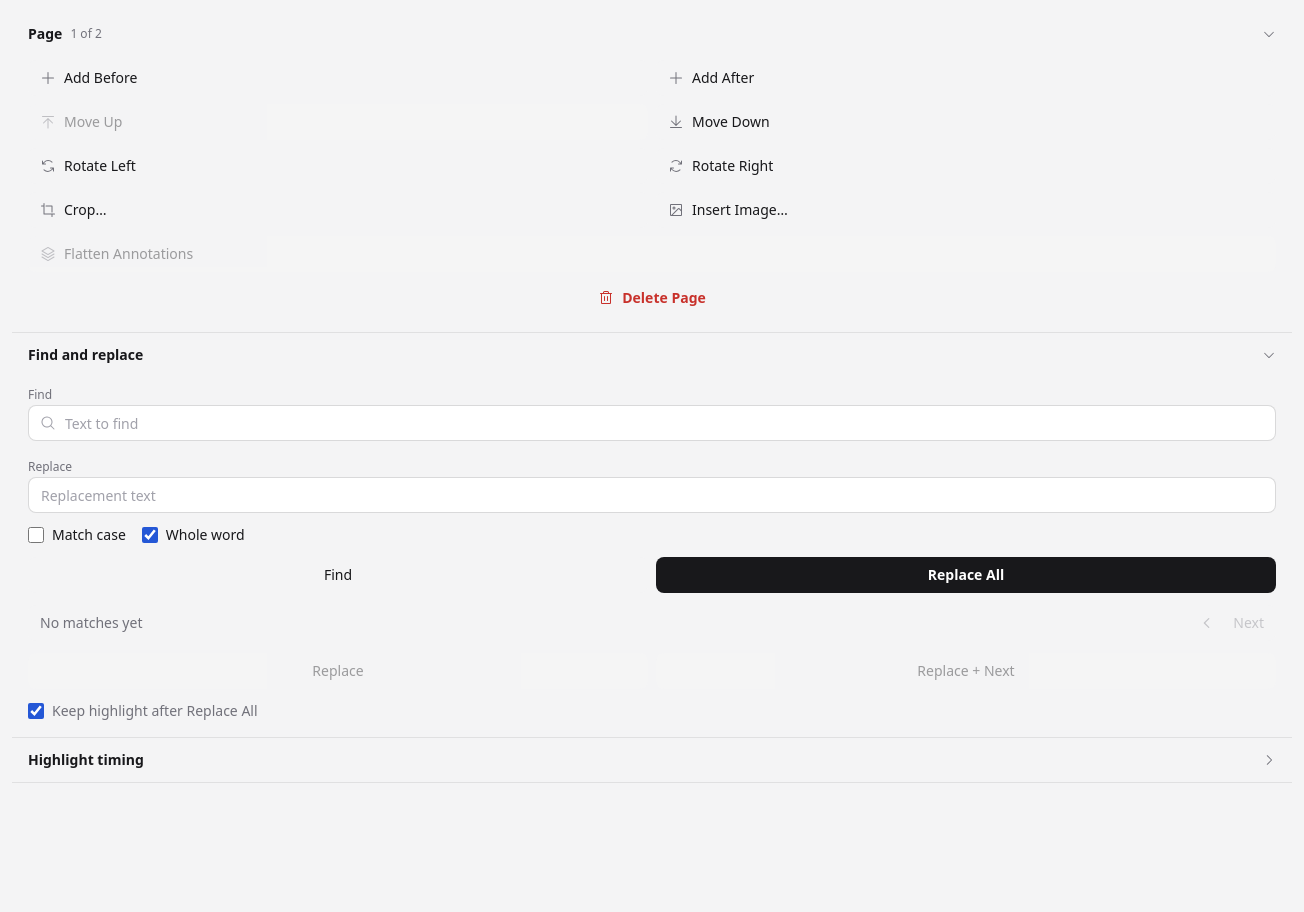
DocumentActionsPanel: Vigorous Find & Replace › Handles Case Sensitivity correctly
Click the checkbox labelled "Match case" at (36, 535), box top-left (28, 527), bottom-right (44, 543)
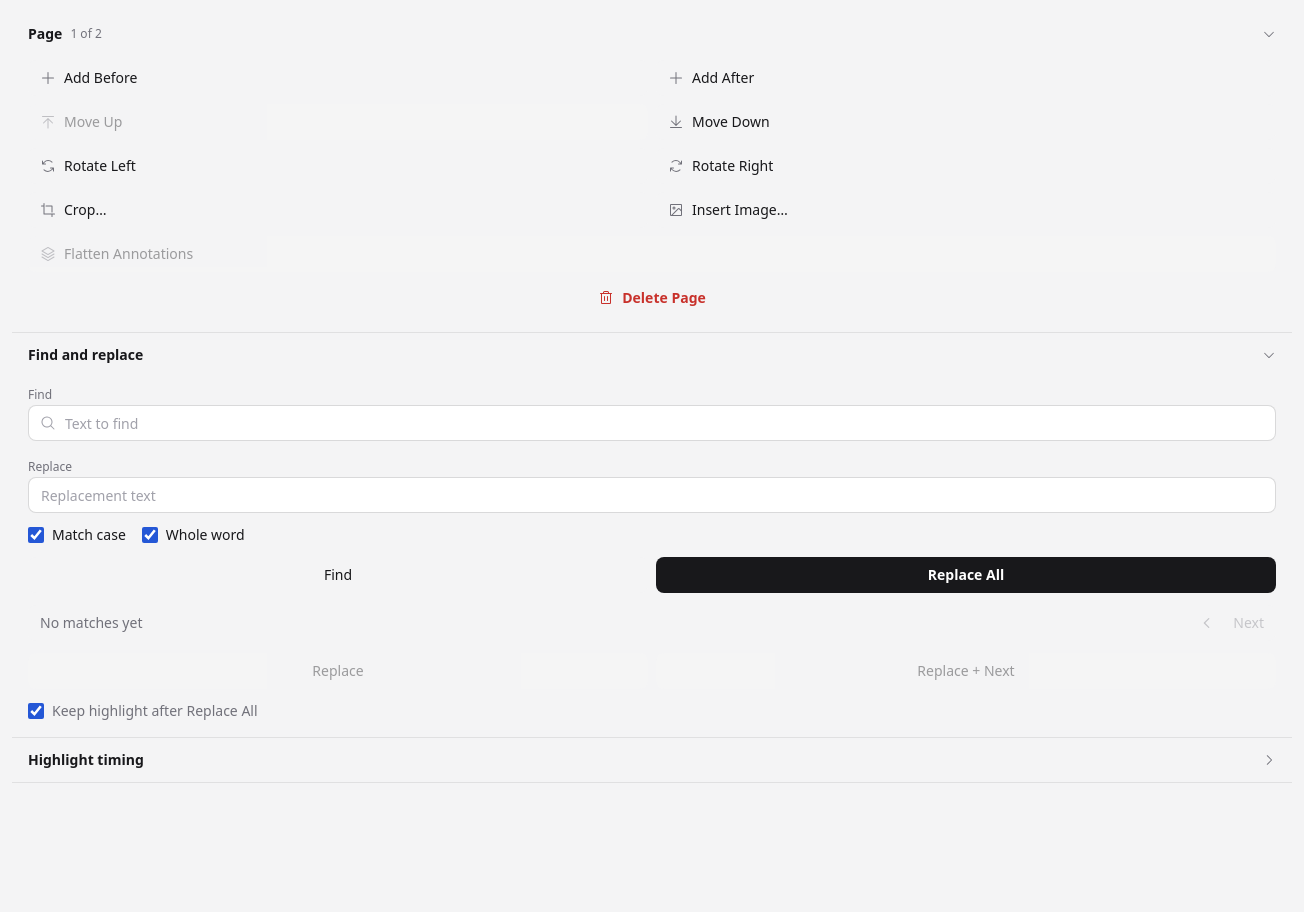
Type "hello" into the field labelled "Find" at (652, 423), box top-left (28, 405), bottom-right (1276, 441)
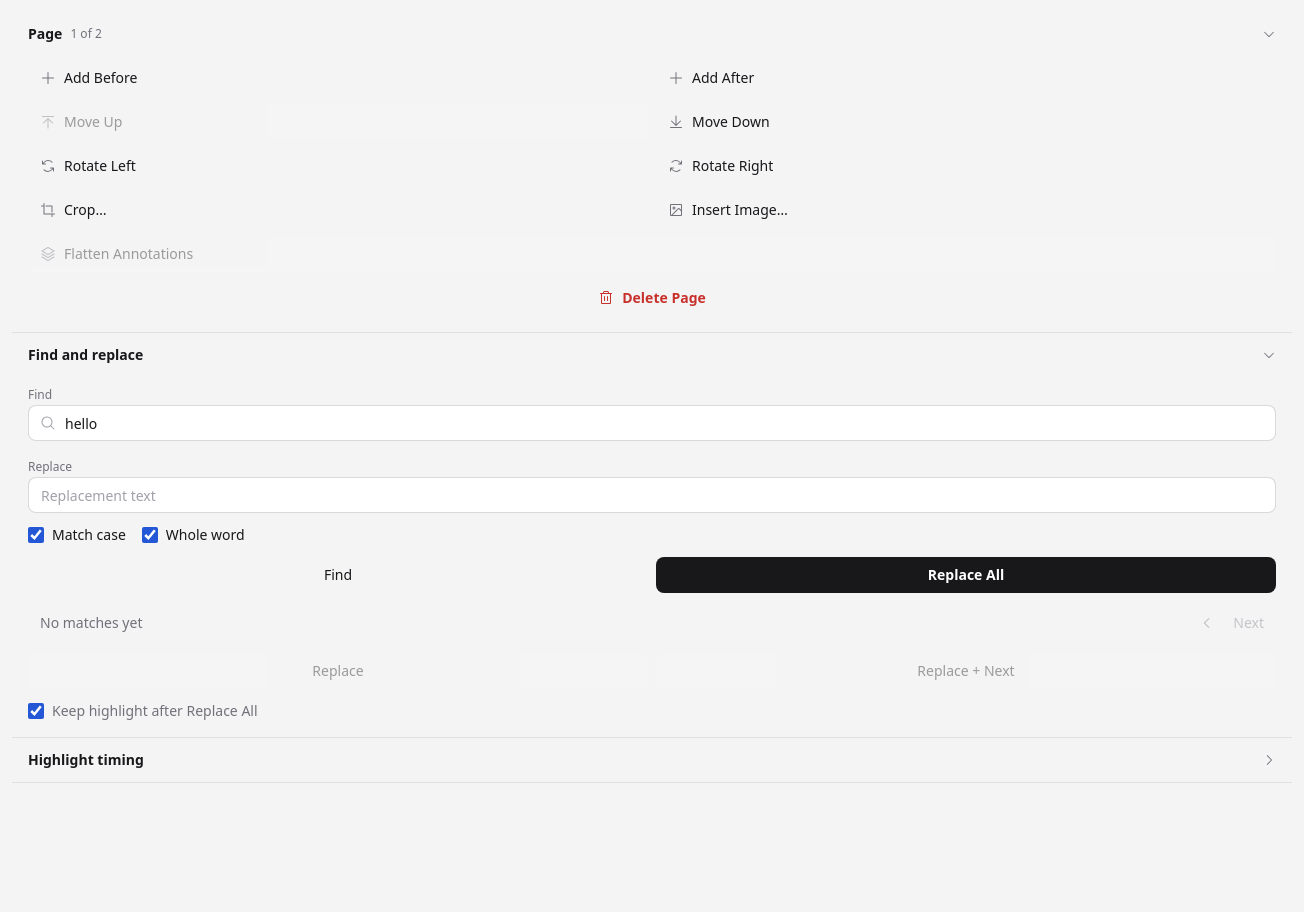
Click the button with aria-label "execute search" at (338, 575), box top-left (28, 557), bottom-right (648, 593)
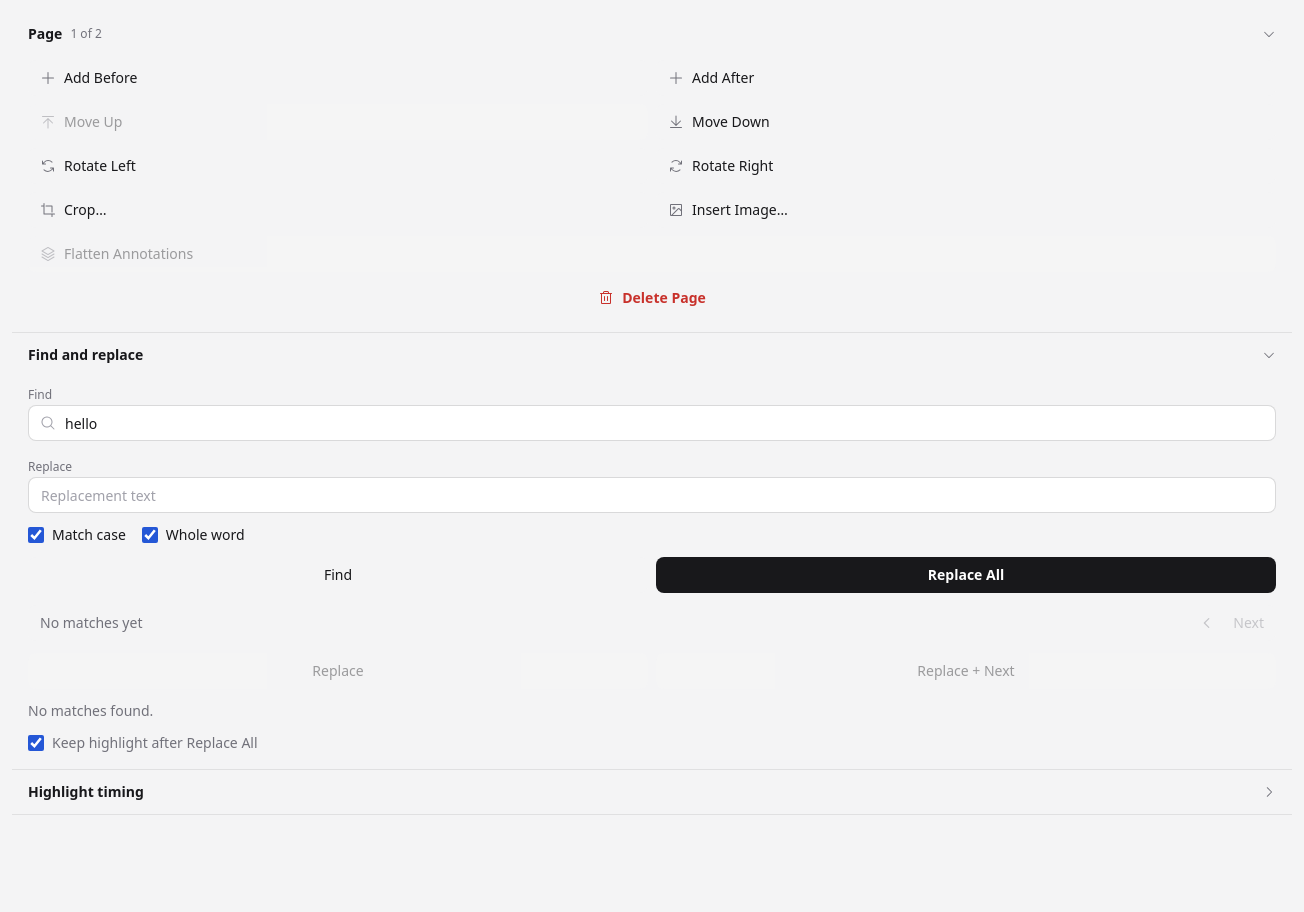
Result: the text "No matches found." is shown at top-left (28, 701), bottom-right (153, 720)
# If we search for nonsense, 0 matches
Replace the text in the field labelled "Find" with "XYZ" at (652, 423), box top-left (28, 405), bottom-right (1276, 441)
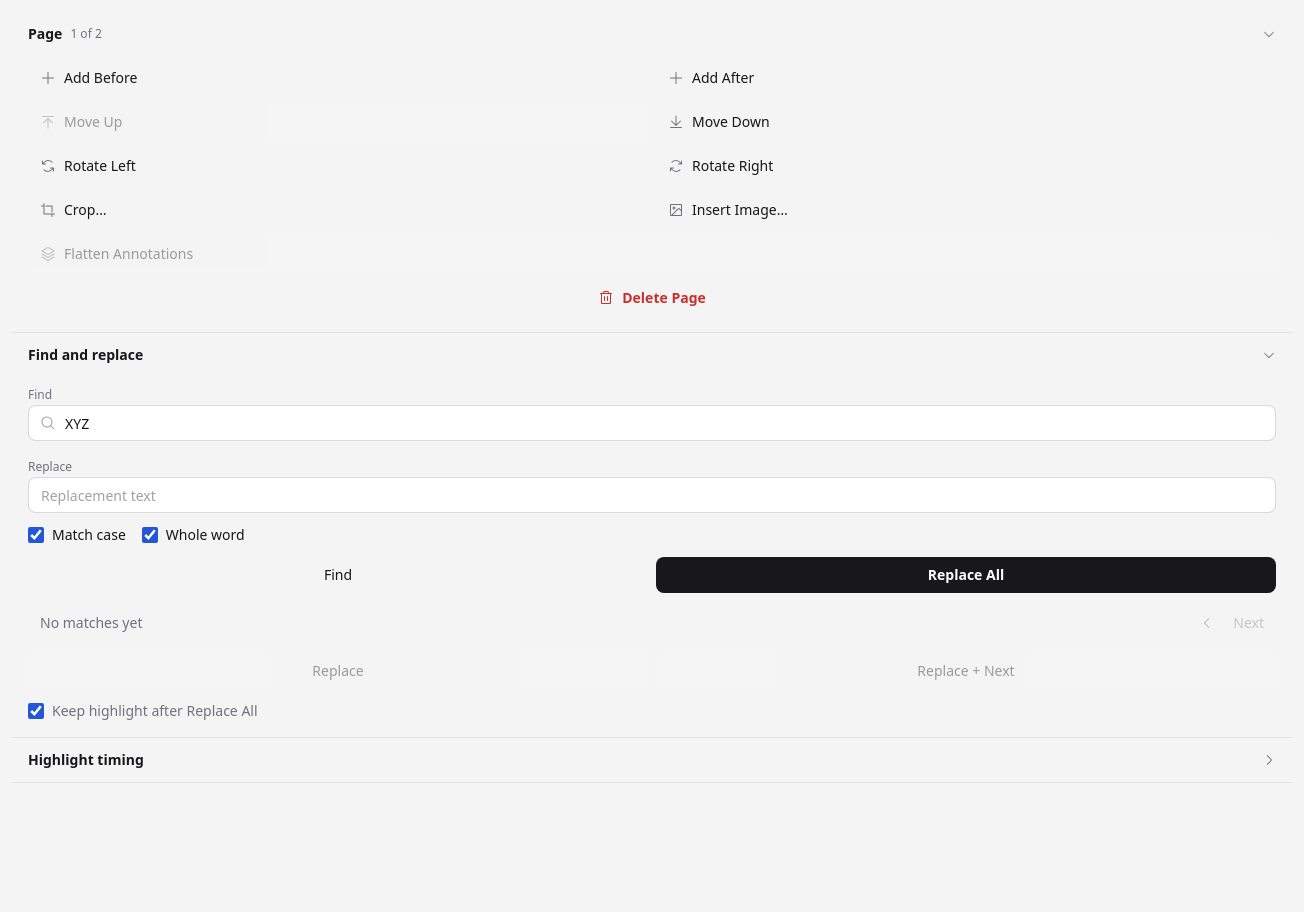
Click the button with aria-label "execute search" at (338, 575), box top-left (28, 557), bottom-right (648, 593)
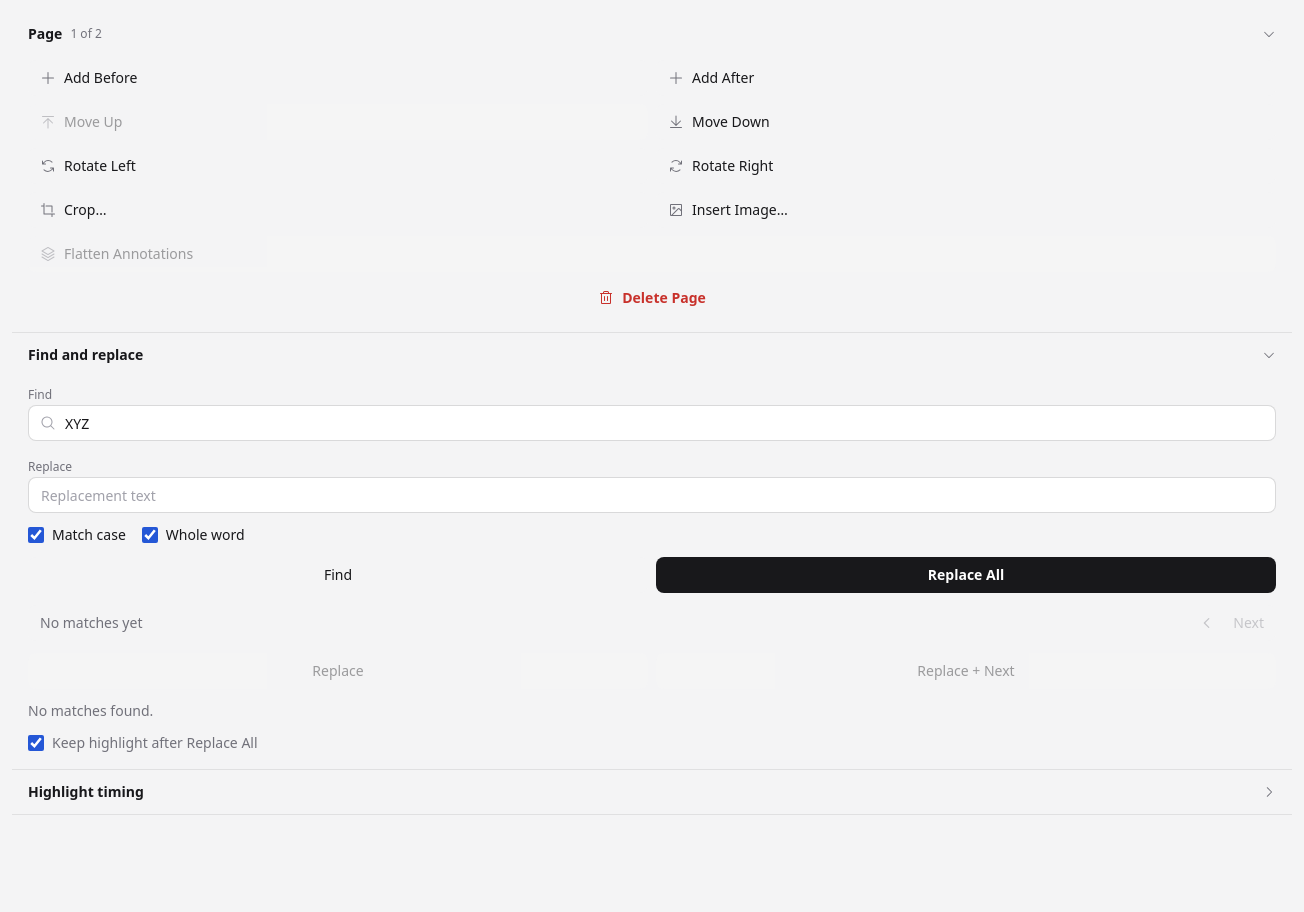
Result: the text "No matches found." is shown at top-left (28, 701), bottom-right (153, 720)
